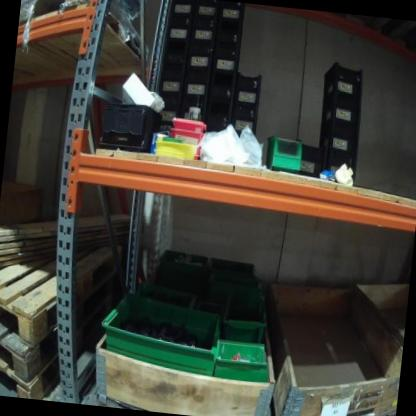pallet: (0, 225, 109, 343), (17, 0, 157, 69), (0, 326, 72, 383), (0, 358, 65, 399), (332, 402, 395, 416)
